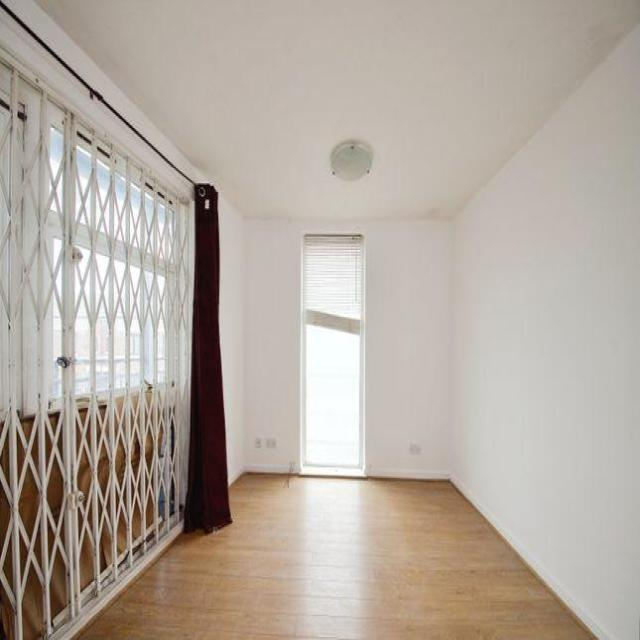Wall: (41, 1, 640, 215), (452, 24, 640, 638), (80, 474, 590, 638), (245, 221, 451, 469), (304, 131, 406, 217), (219, 195, 245, 481)
